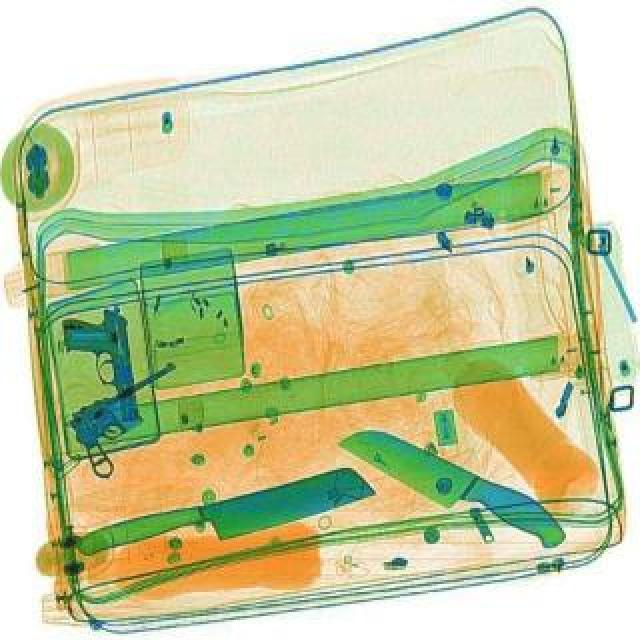gun: (56, 354, 212, 482), (58, 298, 150, 430)
knife: (330, 408, 578, 560), (72, 460, 382, 570)
